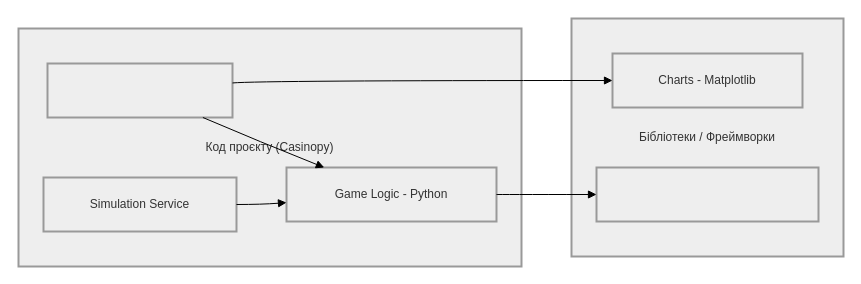
Image size: 861x284. Some labels were removed from this diagram. Each missing label, with the centre of its shape:
Main GUI - tkinter: pixel 139 90
Threading - Python Lib: pixel 707 194
